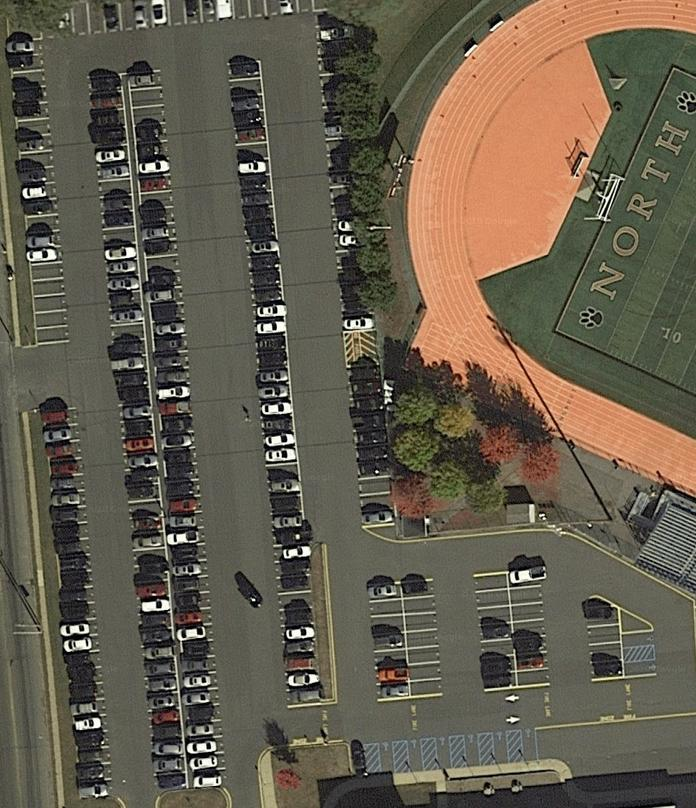parkingspot: (126, 68, 230, 790), (86, 73, 189, 795), (224, 59, 322, 709), (40, 405, 117, 801), (311, 7, 377, 335), (7, 36, 73, 348), (68, 1, 317, 41), (343, 363, 398, 529), (470, 571, 519, 692), (365, 582, 412, 703), (505, 568, 552, 689), (399, 577, 445, 699), (582, 604, 625, 683), (347, 739, 369, 779), (405, 737, 427, 774), (461, 731, 482, 769), (490, 728, 511, 766), (621, 657, 657, 679), (433, 735, 454, 772), (518, 726, 539, 763), (619, 628, 656, 649), (376, 739, 397, 775)
